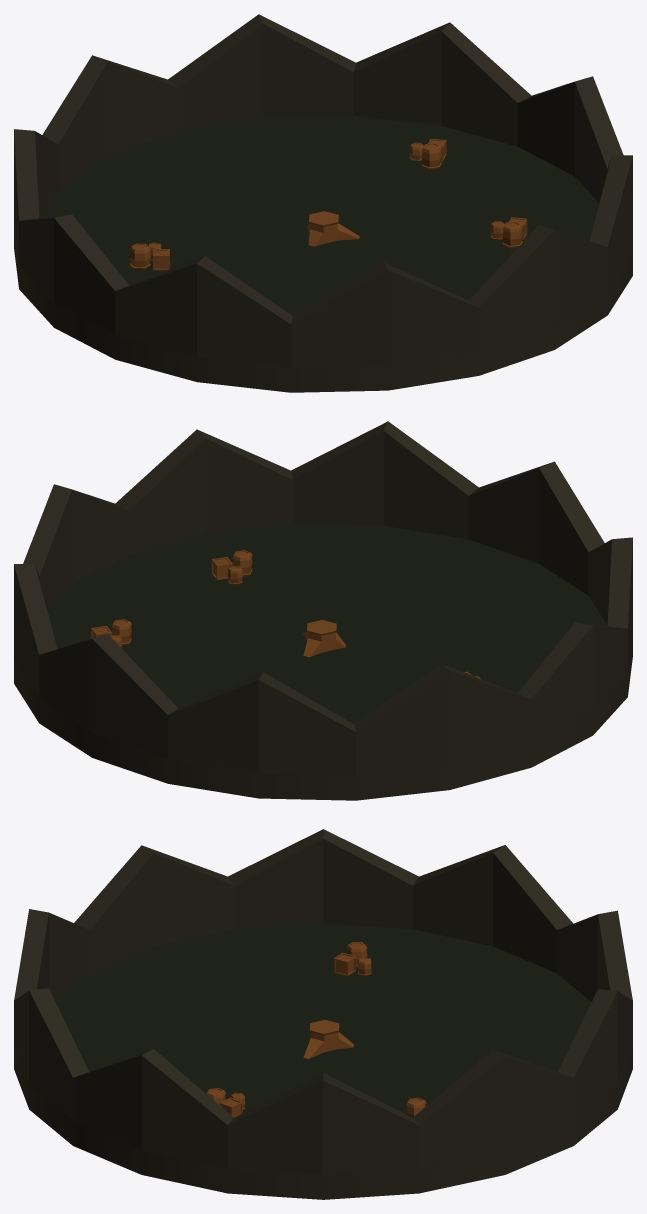
The model's file is escenario3.fbx.
3 renders of one model, top to bottom at view 1: azimuth 30°, elevation 25°; view 2: azimuth 150°, elevation 25°; view 3: azimuth 270°, elevation 25°, orthographic.
Visible parts, largest first — view 1: pCylinder8; view 2: pCylinder8; view 3: pCylinder8.
Boxes of the visible parts, <box> form: pCylinder8: <box>14,14,632,392</box>; pCylinder8: <box>14,421,632,800</box>; pCylinder8: <box>14,829,632,1199</box>.
Size of the model in its own units: 1499 by 320 by 1499.
